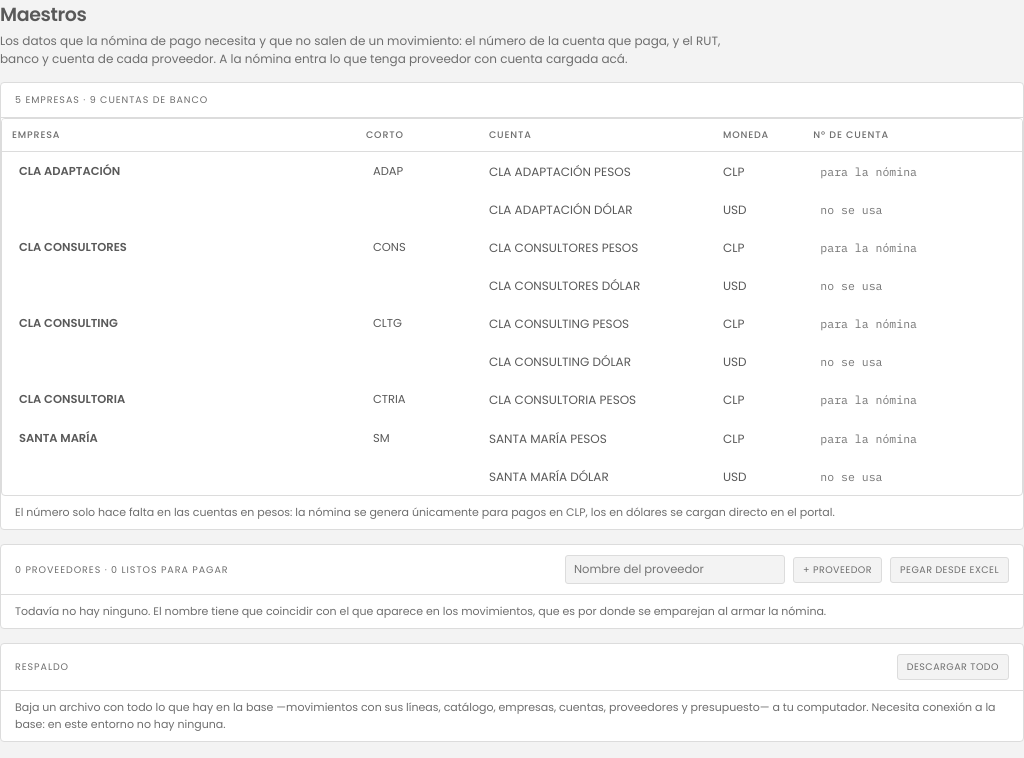
Maestros › un proveedor nuevo nace incompleto y lo dice
Step 1. Type "Smartbricks Technologies SPA" into the field named "Nombre del proveedor nuevo" → (675, 570), box top-left (565, 555), bottom-right (785, 584)
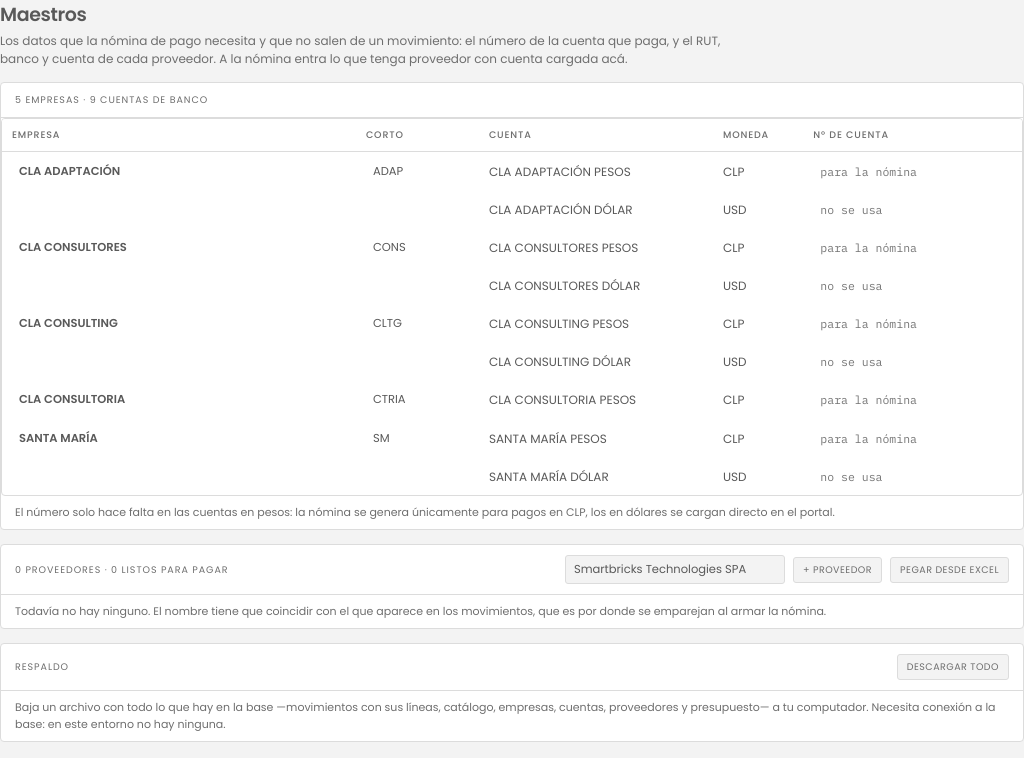
Step 2. Click the button "+ proveedor" → (837, 570), box top-left (793, 556), bottom-right (882, 582)
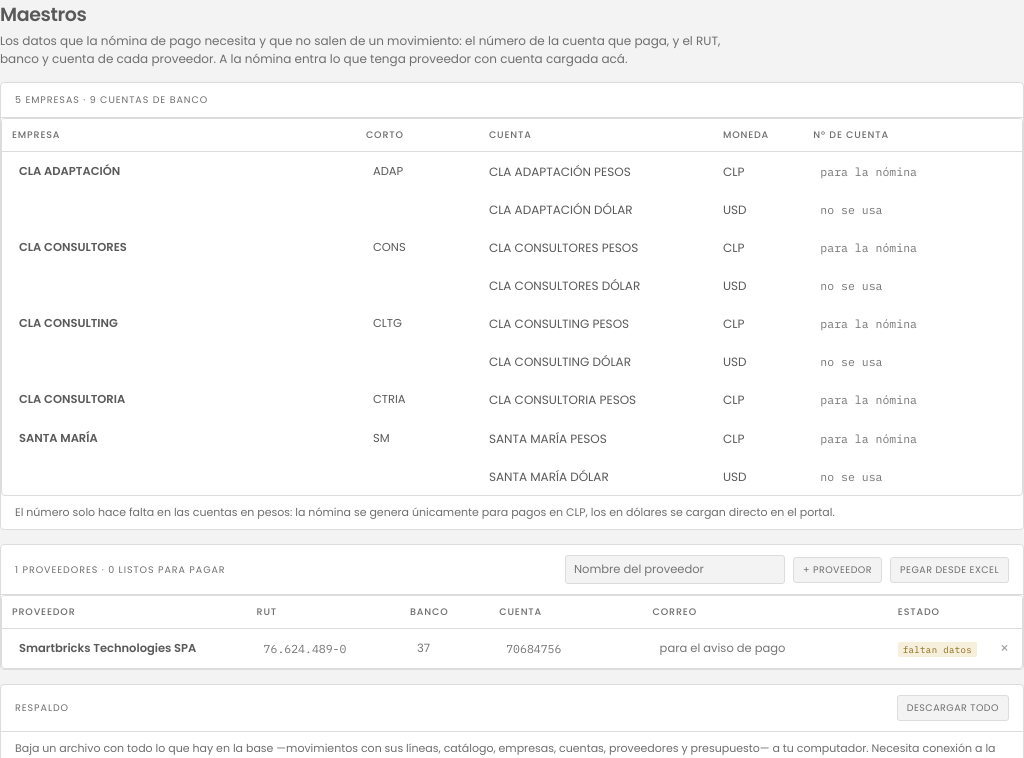
Expected: the field named "Nombre de Smartbricks Technologies SPA" is shown, top-left (12, 635), bottom-right (237, 662)
Expected: the button "faltan datos" is shown, top-left (898, 642), bottom-right (977, 656)
